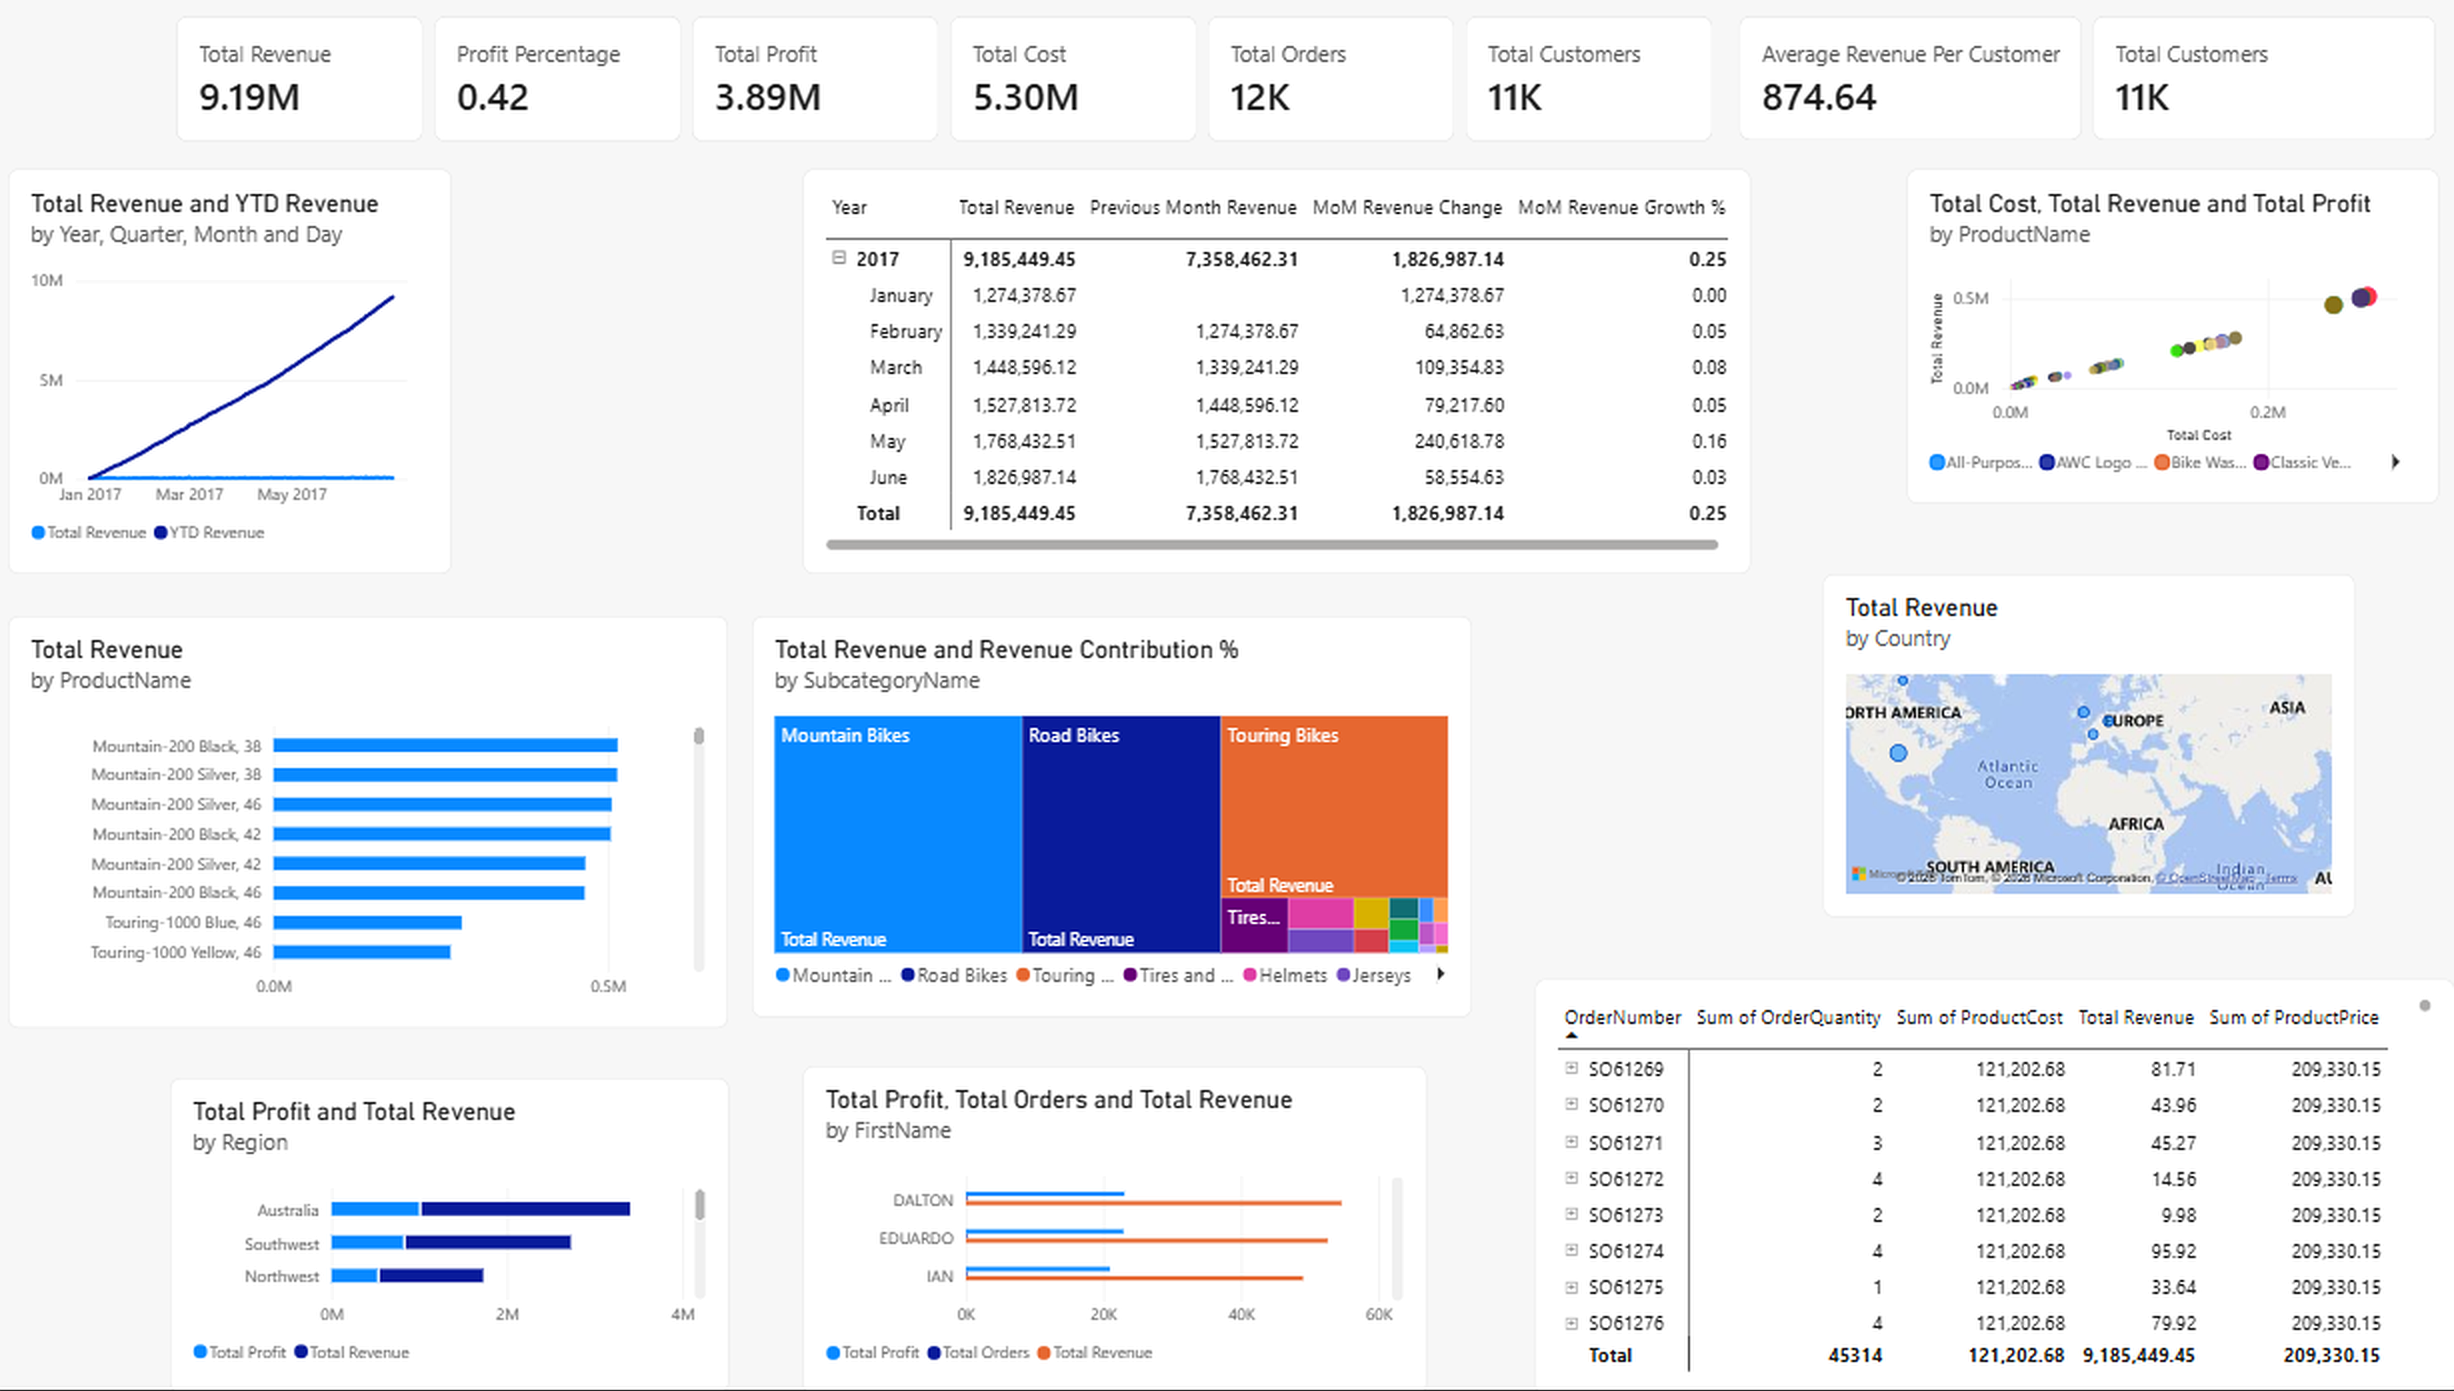

This screenshot's page, from the dashboard's own definition file:
{"tool":"powerbi","page":{"name":"Page 1","canvas":[1920,1080],"ordinal":0},"visuals":[{"type":"cardVisual","fields":{"Data":["AdventureWorks_Sales_2017.Total Revenue","AdventureWorks_Sales_2017.Profit Percentage","AdventureWorks_Sales_2017.Total Profit","AdventureWorks_Sales_2017.Total Cost","AdventureWorks_Sales_2017.Total Orders","AdventureWorks_Sales_2017.Total Customers"]},"box":[155,40,1141.7,93.3],"z":0},{"type":"lineChart","fields":{"Category":["AdventureWorks_Calendar.Date.Variation.Date Hierarchy.Year","AdventureWorks_Calendar.Date.Variation.Date Hierarchy.Quarter","AdventureWorks_Calendar.Date.Variation.Date Hierarchy.Month","AdventureWorks_Calendar.Date.Variation.Date Hierarchy.Day"],"Y":["AdventureWorks_Sales_2017.Total Revenue","AdventureWorks_Sales_2017.YTD Revenue"]},"box":[30,153.3,328.3,300],"z":1000},{"type":"pivotTable","fields":{"Rows":["AdventureWorks_Calendar.Date.Variation.Date Hierarchy.Year","AdventureWorks_Calendar.Date.Variation.Date Hierarchy.Month"],"Values":["AdventureWorks_Sales_2017.Total Revenue","AdventureWorks_Sales_2017.Previous Month Revenue","AdventureWorks_Sales_2017.MoM Revenue Change","AdventureWorks_Sales_2017.MoM Revenue Growth %"]},"box":[620,152.5,701.7,300],"z":2000},{"type":"clusteredBarChart","fields":{"Category":["AdventureWorks_Products.ProductName"],"Y":["AdventureWorks_Sales_2017.Total Revenue"]},"box":[30,485,533.3,305],"z":3000},{"type":"treemap","fields":{"Group":["AdventureWorks_Product_Subcateg.SubcategoryName"],"Values":["AdventureWorks_Sales_2017.Total Revenue","AdventureWorks_Sales_2017.Revenue Contribution %"]},"box":[581.7,485,533,297],"z":4000},{"type":"scatterChart","fields":{"Series":["AdventureWorks_Products.ProductName"],"Size":["AdventureWorks_Sales_2017.Total Profit"],"X":["AdventureWorks_Sales_2017.Total Cost"],"Y":["AdventureWorks_Sales_2017.Total Revenue"]},"box":[1437.5,152.5,394,248],"z":4001},{"type":"map","fields":{"Category":["AdventureWorks_Territories.Country","AdventureWorks_Territories.Region"],"Size":["AdventureWorks_Sales_2017.Total Revenue"]},"box":[1375,452.5,394,254],"z":4002},{"type":"barChart","fields":{"Category":["AdventureWorks_Territories.Region"],"Y":["AdventureWorks_Sales_2017.Total Profit","AdventureWorks_Sales_2017.Total Revenue"]},"box":[150,826.7,414,233],"z":4003},{"type":"clusteredBarChart","fields":{"Category":["AdventureWorks_Customers.FirstName","AdventureWorks_Customers.LastName"],"Y":["AdventureWorks_Sales_2017.Total Profit","AdventureWorks_Sales_2017.Total Orders","AdventureWorks_Sales_2017.Total Revenue"]},"box":[620,816.7,461.7,243.2],"z":4004},{"type":"pivotTable","fields":{"Rows":["AdventureWorks_Sales_2017.OrderNumber","AdventureWorks_Products.ProductName"],"Values":["Sum(AdventureWorks_Sales_2017.OrderQuantity)","Sum(AdventureWorks_Products.ProductCost)","AdventureWorks_Sales_2017.Total Revenue","Sum(AdventureWorks_Products.ProductPrice)"]},"box":[1162.5,752.5,681,308],"z":4005},{"type":"cardVisual","fields":{"Data":["AdventureWorks_Sales_2017.Average Revenue Per Customer","AdventureWorks_Sales_2017.Total Customers"]},"box":[1312.5,40,517.5,92.5],"z":4006}]}

Visuals, with their boxes in screenshot pixels (x1, y1, x2, y2), scaled from the page's 1920x1080 canvas onto the 2454x1391 screenshot:
cardVisual - AdventureWorks_Sales_2017.Total Revenue x AdventureWorks_Sales_2017.Profit Percentage: [x1=198, y1=52, x2=1657, y2=172]
lineChart - AdventureWorks_Calendar.Date.Variation.Date Hierarchy.Year x AdventureWorks_Calendar.Date.Variation.Date Hierarchy.Quarter: [x1=38, y1=197, x2=458, y2=584]
pivotTable - AdventureWorks_Calendar.Date.Variation.Date Hierarchy.Year x AdventureWorks_Calendar.Date.Variation.Date Hierarchy.Month: [x1=792, y1=196, x2=1689, y2=583]
clusteredBarChart - AdventureWorks_Products.ProductName x AdventureWorks_Sales_2017.Total Revenue: [x1=38, y1=625, x2=720, y2=1017]
treemap - AdventureWorks_Product_Subcateg.SubcategoryName x AdventureWorks_Sales_2017.Total Revenue: [x1=743, y1=625, x2=1425, y2=1007]
scatterChart - AdventureWorks_Products.ProductName x AdventureWorks_Sales_2017.Total Profit: [x1=1837, y1=196, x2=2341, y2=516]
map - AdventureWorks_Territories.Country x AdventureWorks_Territories.Region: [x1=1757, y1=583, x2=2261, y2=910]
barChart - AdventureWorks_Territories.Region x AdventureWorks_Sales_2017.Total Profit: [x1=192, y1=1065, x2=721, y2=1365]
clusteredBarChart - AdventureWorks_Customers.FirstName x AdventureWorks_Customers.LastName: [x1=792, y1=1052, x2=1383, y2=1365]
pivotTable - AdventureWorks_Sales_2017.OrderNumber x AdventureWorks_Products.ProductName: [x1=1486, y1=969, x2=2356, y2=1366]
cardVisual - AdventureWorks_Sales_2017.Average Revenue Per Customer x AdventureWorks_Sales_2017.Total Customers: [x1=1678, y1=52, x2=2339, y2=171]
